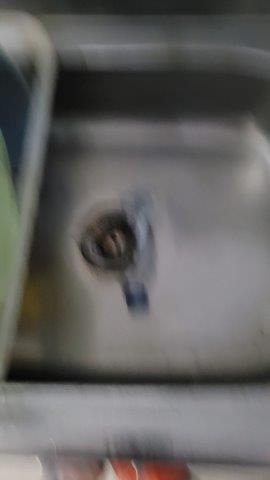botolplastik: (121, 186, 156, 314)
